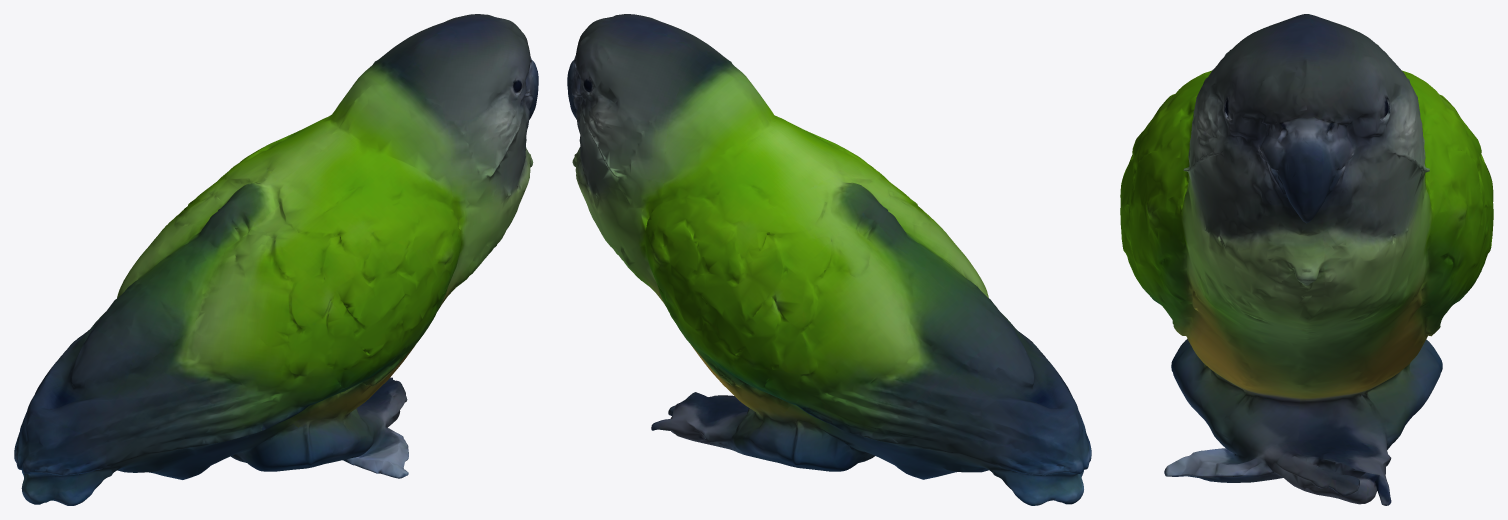
Rendered from cham2.glb.
3 views of the same model, side by side, from view 1: azimuth 30°, elevation 25°; view 2: azimuth 150°, elevation 25°; view 3: azimuth 270°, elevation 25° (orthographic). The views are drawn at different scales.
Parts seen in each view (by area): view 1: tripo_node_9ee9153e-c613-4eea-a4bd-fca87fba9651; view 2: tripo_node_9ee9153e-c613-4eea-a4bd-fca87fba9651; view 3: tripo_node_9ee9153e-c613-4eea-a4bd-fca87fba9651.
Boxes of the visible parts, x1,y1,x2,y2 form: tripo_node_9ee9153e-c613-4eea-a4bd-fca87fba9651: (14,14,538,505); tripo_node_9ee9153e-c613-4eea-a4bd-fca87fba9651: (567,14,1091,505); tripo_node_9ee9153e-c613-4eea-a4bd-fca87fba9651: (1120,14,1493,505).
Bounding box in the file's own units: 0.9999 × 0.7227 × 0.4683.
1 material, 1 textured.
